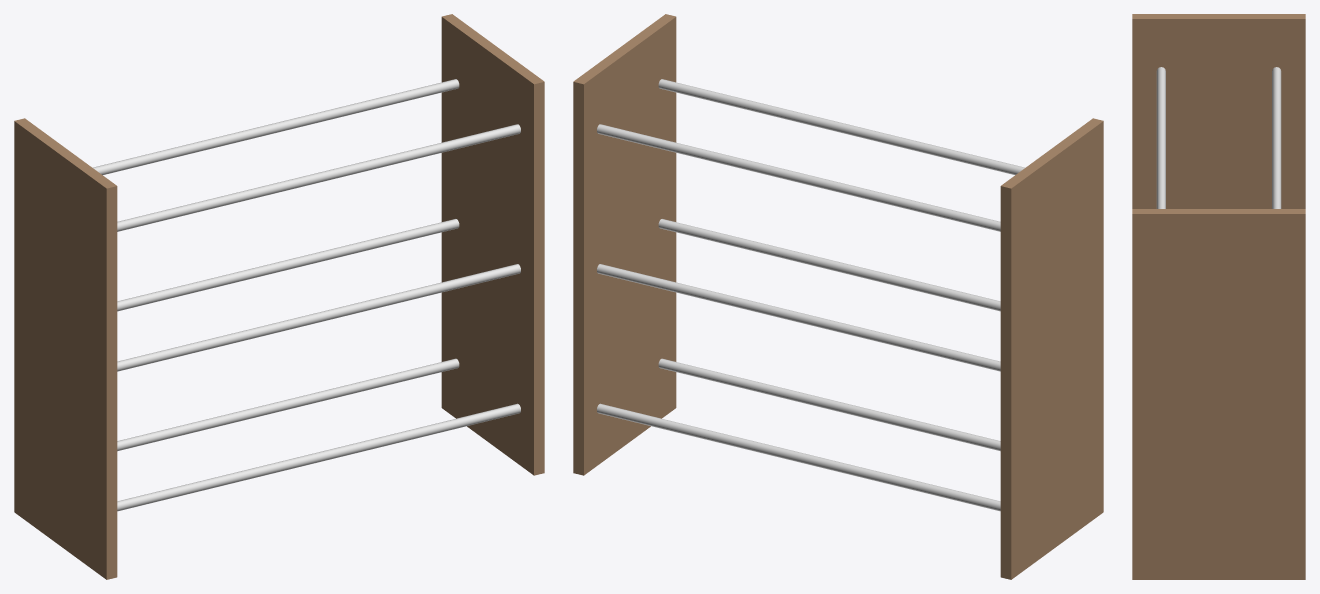
Rendered from furniture.home.shoe_rack.glb.
The picture shows the model from 3 angles, left to right: view 1: azimuth 30°, elevation 25°; view 2: azimuth 150°, elevation 25°; view 3: azimuth 270°, elevation 25°; orthographic projection. The views are drawn at different scales.
Visible parts, largest first — view 1: main__hardwood, main__steel_stainless; view 2: main__hardwood, main__steel_stainless; view 3: main__hardwood, main__steel_stainless.
Boxes of the visible parts, x1=… form: main__hardwood: x1=14, y1=14, x2=544, y2=579; main__steel_stainless: x1=93, y1=79, x2=520, y2=511; main__hardwood: x1=573, y1=14, x2=1103, y2=579; main__steel_stainless: x1=597, y1=79, x2=1024, y2=511; main__hardwood: x1=1132, y1=14, x2=1305, y2=579; main__steel_stainless: x1=1156, y1=67, x2=1281, y2=208.
Bounding box in the file's own units: 0.82 × 0.7 × 0.3.
